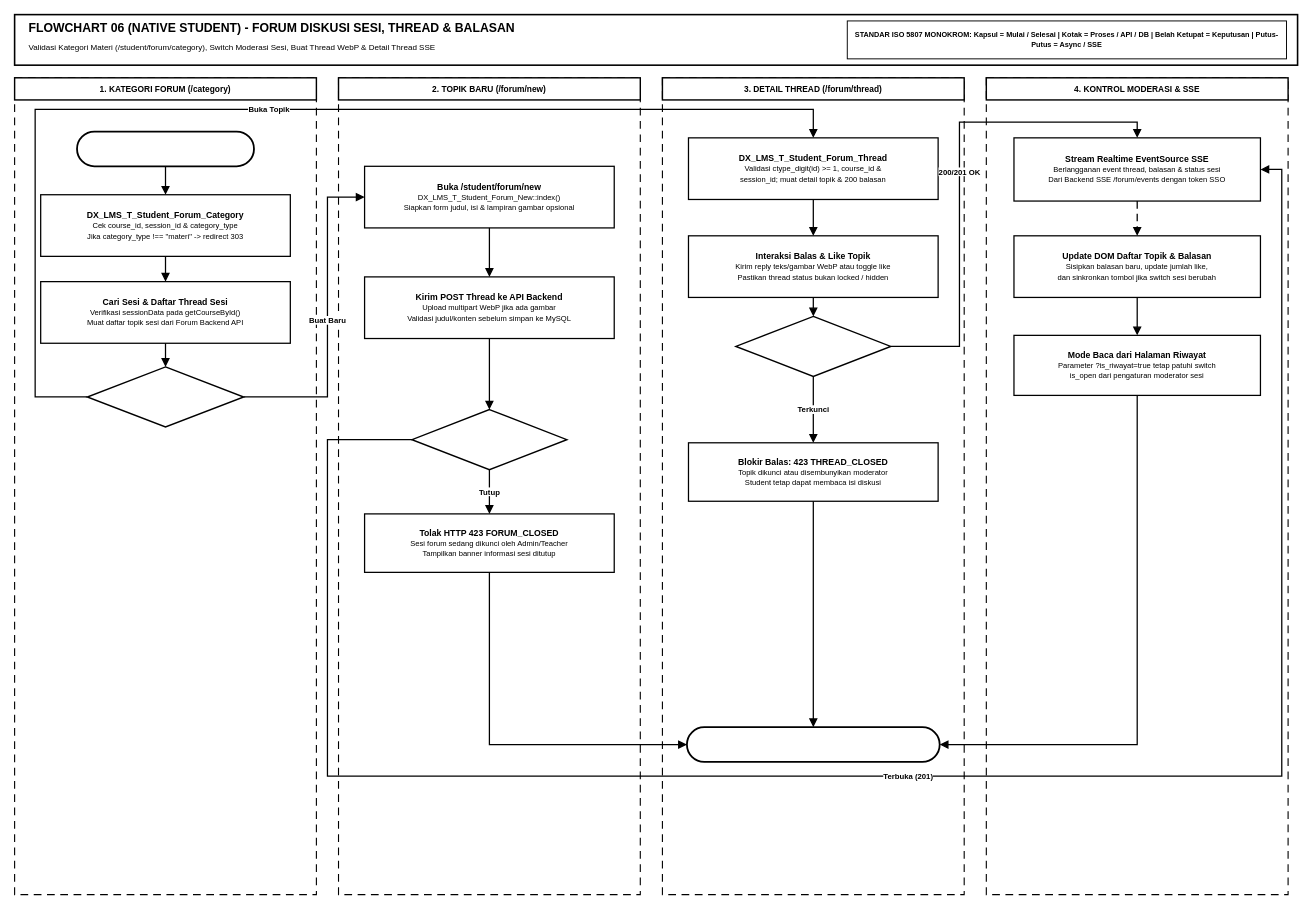
This 1311x909 diagram has some shape labels left out. Each missing label, with the centre of its shape:
"Aksi Student: Buat vs Buka Topik?" goes at (165,396).
"BUKA TAB FORUM COURSE" goes at (165,148).
"DISKUSI FORUM TER-UPDATE" goes at (813,744).
"Switch Sesi is_open = true?" goes at (489,439).
"Thread & Sesi Terbuka (Visible)?" goes at (813,346).
